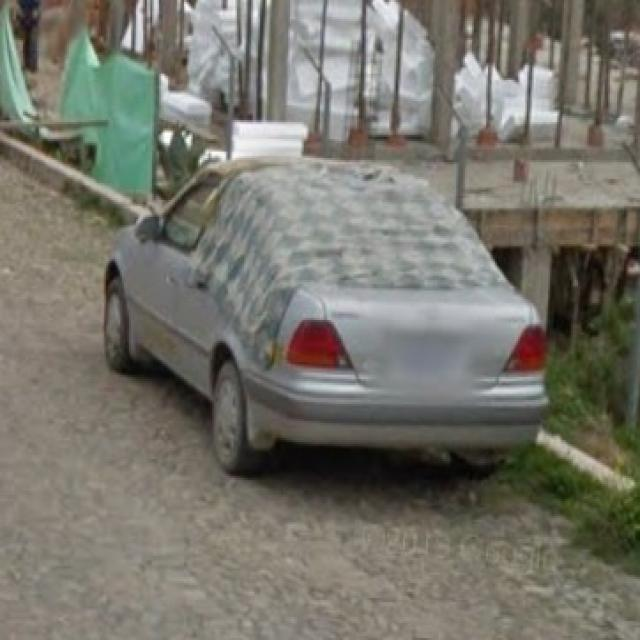cars: (96, 150, 548, 467)
